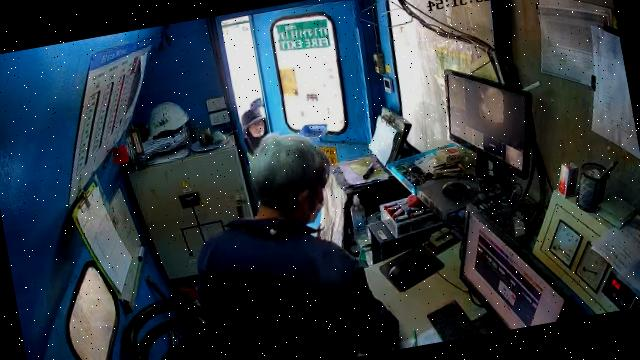Head: (250, 135, 330, 224)
People: (198, 136, 399, 359)
